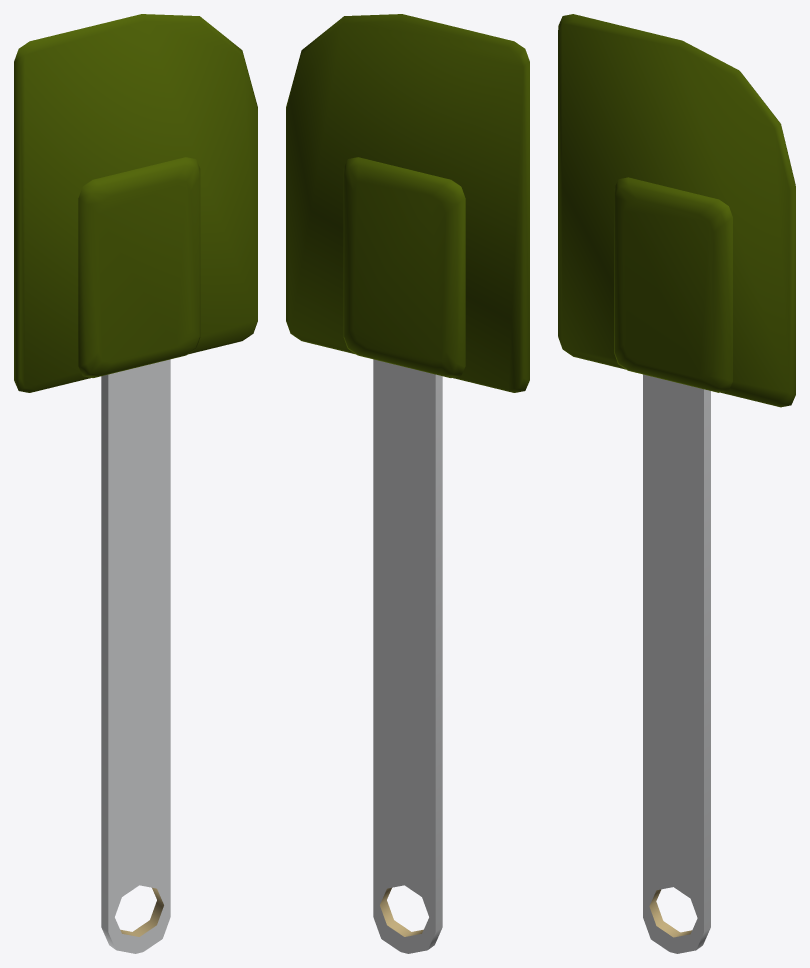
Rendered from cutensils_rubber_spatula_w_hole_green.glb.
3 renders of one model, left to right at view 1: azimuth 30°, elevation 25°; view 2: azimuth 150°, elevation 25°; view 3: azimuth 330°, elevation 25°, orthographic. The views are drawn at different scales.
Visible parts, largest first — view 1: cutensils rubber spatula w/hole green; view 2: cutensils rubber spatula w/hole green; view 3: cutensils rubber spatula w/hole green.
Boxes of the visible parts, x1,y1,x2,y2 form: cutensils rubber spatula w/hole green: [14, 14, 257, 953]; cutensils rubber spatula w/hole green: [286, 14, 529, 953]; cutensils rubber spatula w/hole green: [558, 14, 795, 953].
Size of the model in its own units: 1.88 by 6.9 by 0.2312.
1 material, 1 textured.
